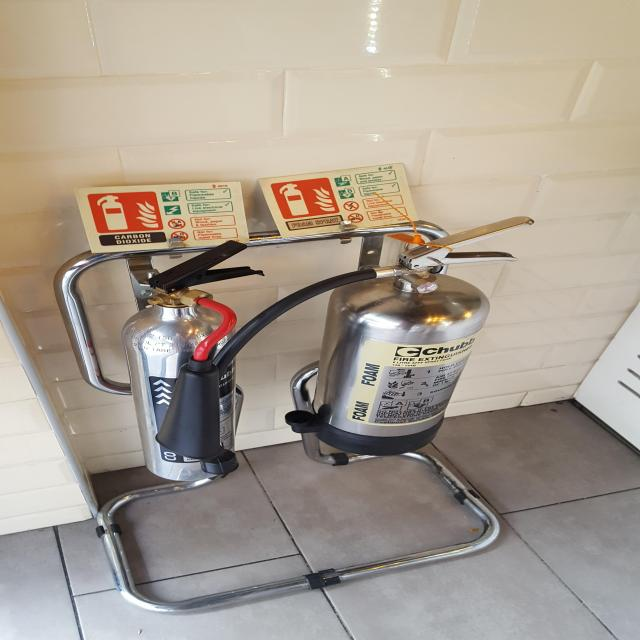fire_extinguisher: (166, 216, 540, 461), (117, 237, 269, 487)
